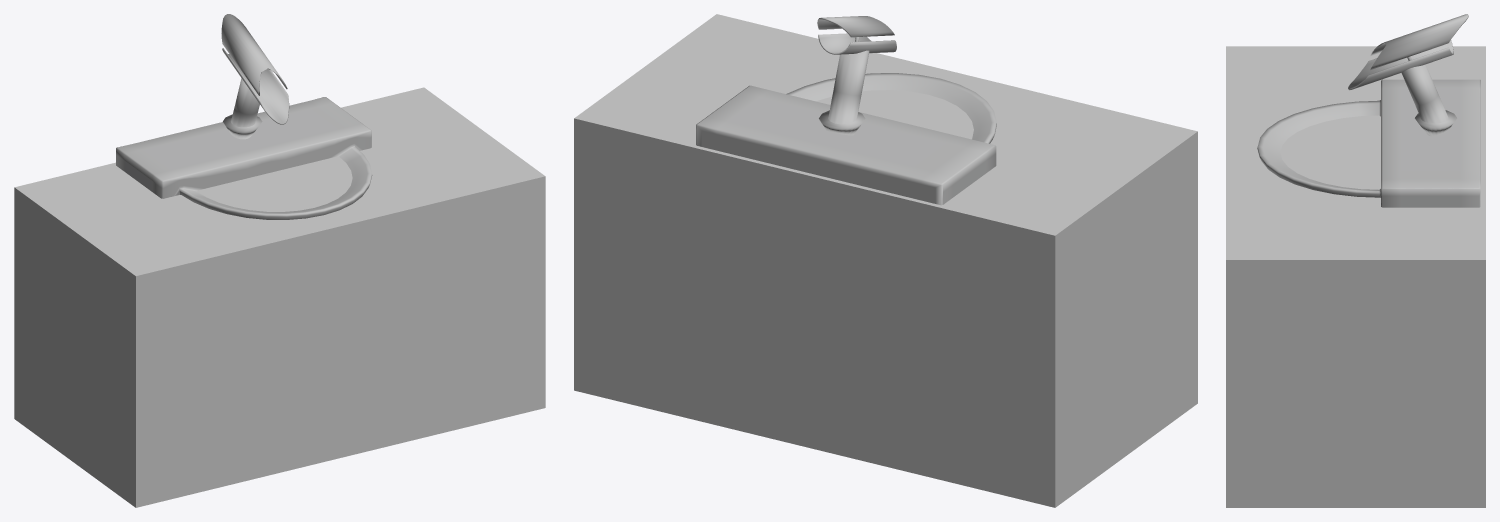
File: piateste.obj
The picture shows the model from 3 angles, left to right: view 1: azimuth 30°, elevation 25°; view 2: azimuth 150°, elevation 25°; view 3: azimuth 270°, elevation 25°; orthographic projection. The views are drawn at different scales.
Parts seen in each view (by area): view 1: Cubo, sink, knob, glasspout, fawcetneck; view 2: Cubo, sink, fawcetneck, glasspout, knob; view 3: Cubo, sink, knob, fawcetneck, glasspout.
Part boxes in pixels (box(x1,y1,x2,y2)): Cubo: box(14, 87, 545, 507); sink: box(116, 97, 372, 219); knob: box(221, 14, 287, 95); glasspout: box(222, 48, 289, 124); fawcetneck: box(223, 78, 262, 139); Cubo: box(574, 14, 1197, 507); sink: box(696, 73, 996, 205); fawcetneck: box(819, 50, 869, 135); glasspout: box(818, 33, 896, 54); knob: box(817, 16, 894, 37); Cubo: box(1226, 46, 1485, 507); sink: box(1257, 79, 1480, 207); knob: box(1370, 14, 1468, 69); fawcetneck: box(1401, 64, 1456, 136); glasspout: box(1348, 40, 1453, 90).
Bounding box in the file's own units: 3.7 × 3.12 × 1.9.
Materials: 2 (1 with a texture image).
